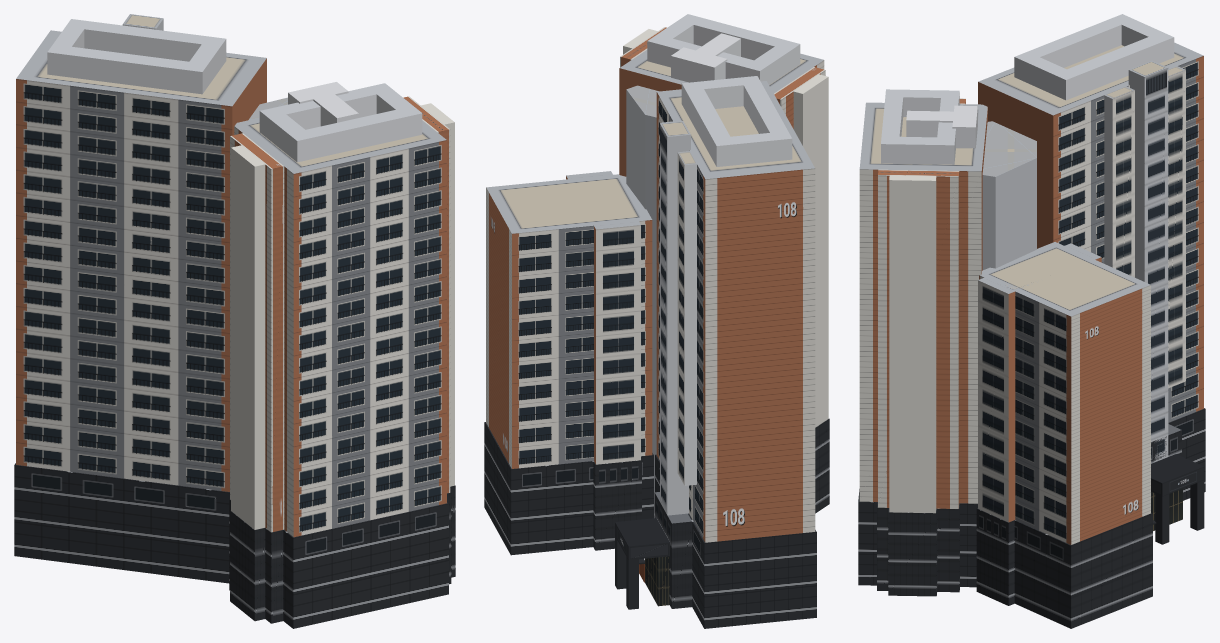
Rendered from 3D_place_108.glb.
3 views of the same model, side by side, from view 1: azimuth 30°, elevation 25°; view 2: azimuth 150°, elevation 25°; view 3: azimuth 270°, elevation 25° (orthographic). The views are drawn at different scales.
Parts seen in each view (by area): view 1: KumhoParkHills_108; view 2: KumhoParkHills_108, Dong108_PhotoMatched_Entrance; view 3: KumhoParkHills_108, Dong108_PhotoMatched_Entrance.
Boxes of the visible parts, bbox=[...] form: KumhoParkHills_108: bbox=[14, 14, 455, 628]; KumhoParkHills_108: bbox=[484, 14, 829, 628]; Dong108_PhotoMatched_Entrance: bbox=[615, 518, 669, 609]; KumhoParkHills_108: bbox=[858, 14, 1205, 628]; Dong108_PhotoMatched_Entrance: bbox=[1151, 454, 1204, 544].
Size of the model in its own units: 45.2 by 56.05 by 38.67.
44 materials, 21 textured.
